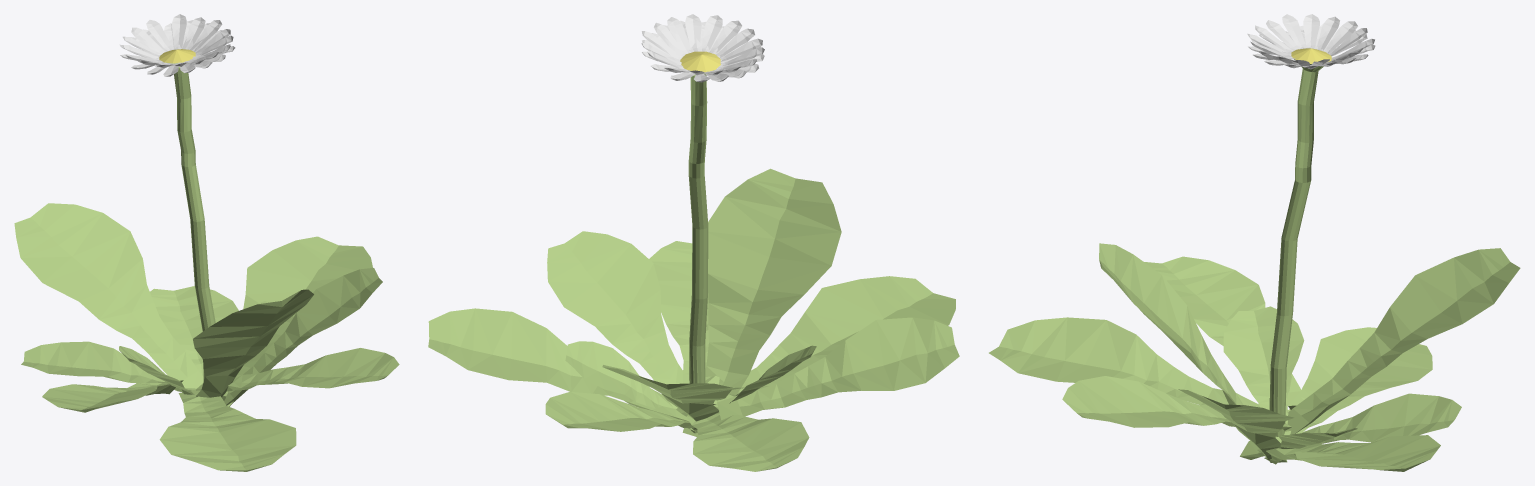
File: daisy.fbx
The picture shows the model from 3 angles, left to right: view 1: azimuth 30°, elevation 25°; view 2: azimuth 150°, elevation 25°; view 3: azimuth 270°, elevation 25°; orthographic projection. The views are drawn at different scales.
Parts seen in each view (by area): view 1: daisy; view 2: daisy; view 3: daisy.
Part boxes in pixels (bbox=[...]): daisy: bbox=[14, 14, 399, 471]; daisy: bbox=[428, 14, 959, 471]; daisy: bbox=[989, 14, 1520, 471].
Bounding box in the file's own units: 2.49 × 2.29 × 2.61.
